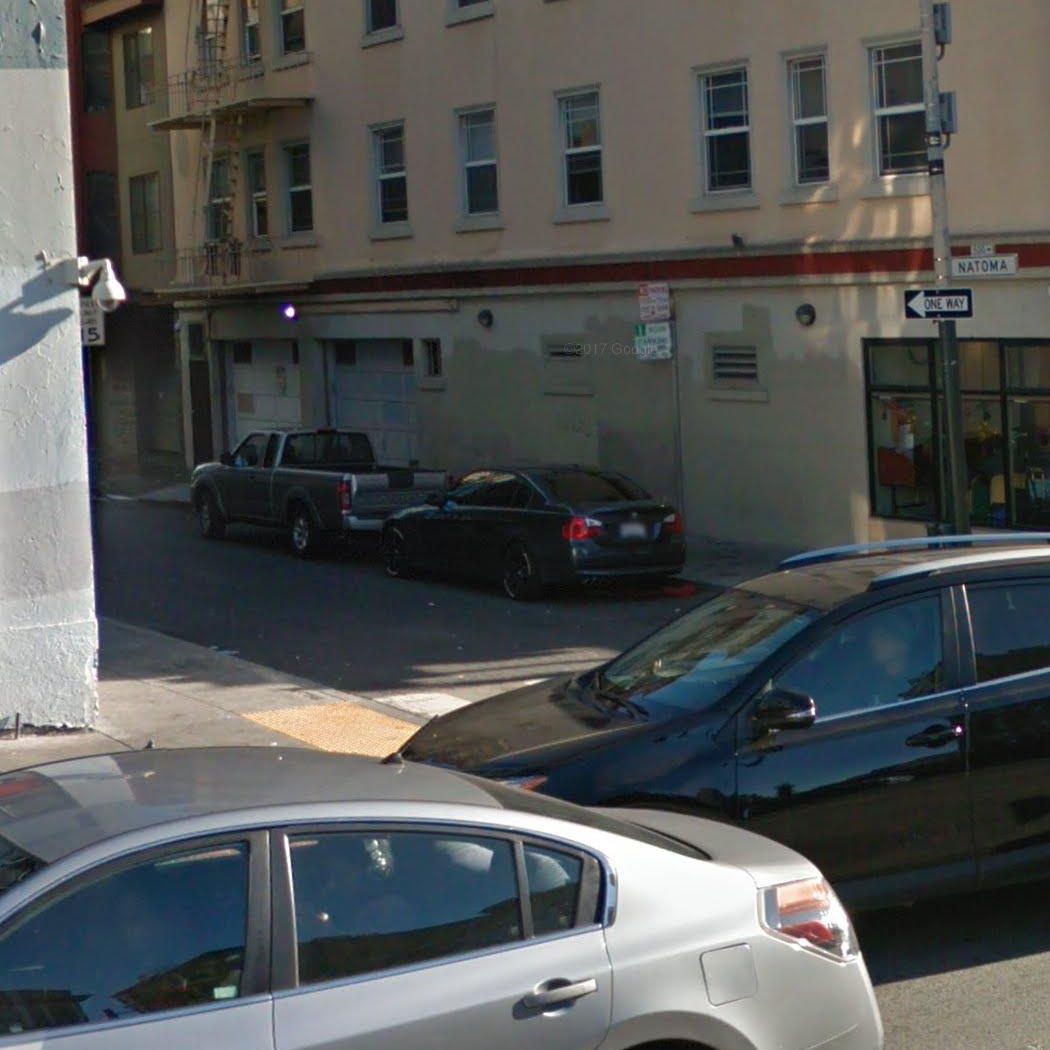1 Hour Parking: (633, 321, 673, 361)
No Parking: (636, 282, 672, 322)
